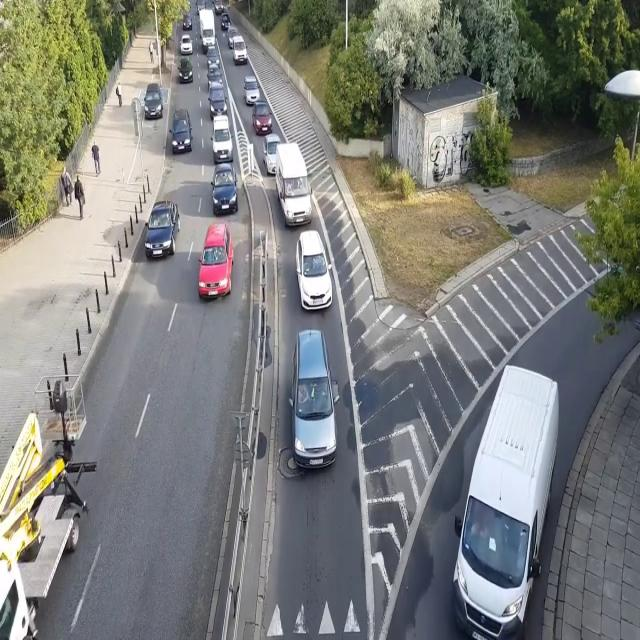car: (287, 330, 340, 472), (295, 228, 334, 312), (198, 220, 235, 300), (144, 199, 181, 258), (211, 162, 238, 213), (169, 106, 193, 154), (262, 134, 281, 176), (144, 82, 164, 119), (252, 99, 272, 135), (243, 76, 261, 104), (206, 64, 223, 88), (178, 58, 194, 83), (206, 45, 220, 68), (179, 34, 193, 54), (228, 25, 239, 49), (220, 13, 231, 31), (182, 15, 193, 31), (214, 0, 224, 15)
truck: (0, 372, 98, 640), (198, 8, 218, 52)
van: (450, 361, 561, 640), (274, 141, 313, 228), (210, 114, 233, 162), (208, 81, 228, 119), (232, 35, 248, 66)
